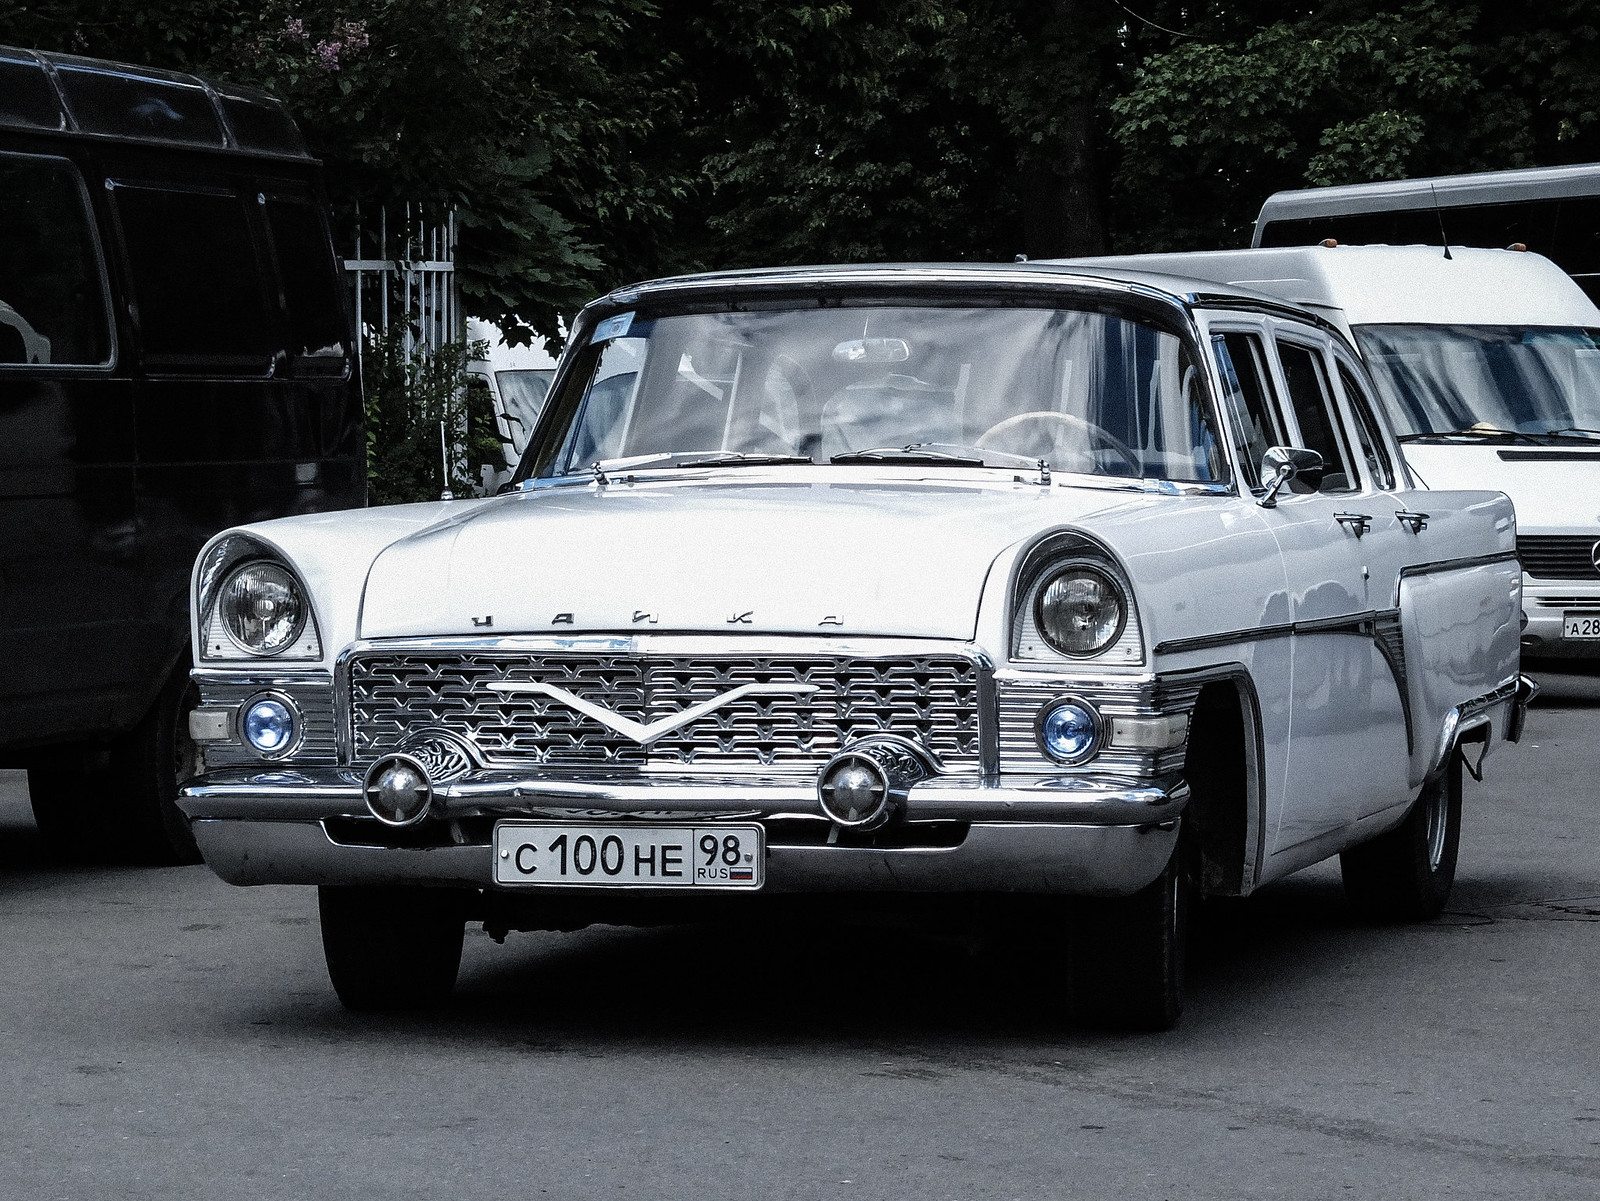car_front: (180, 524, 1156, 896)
plate: (496, 823, 757, 885)
